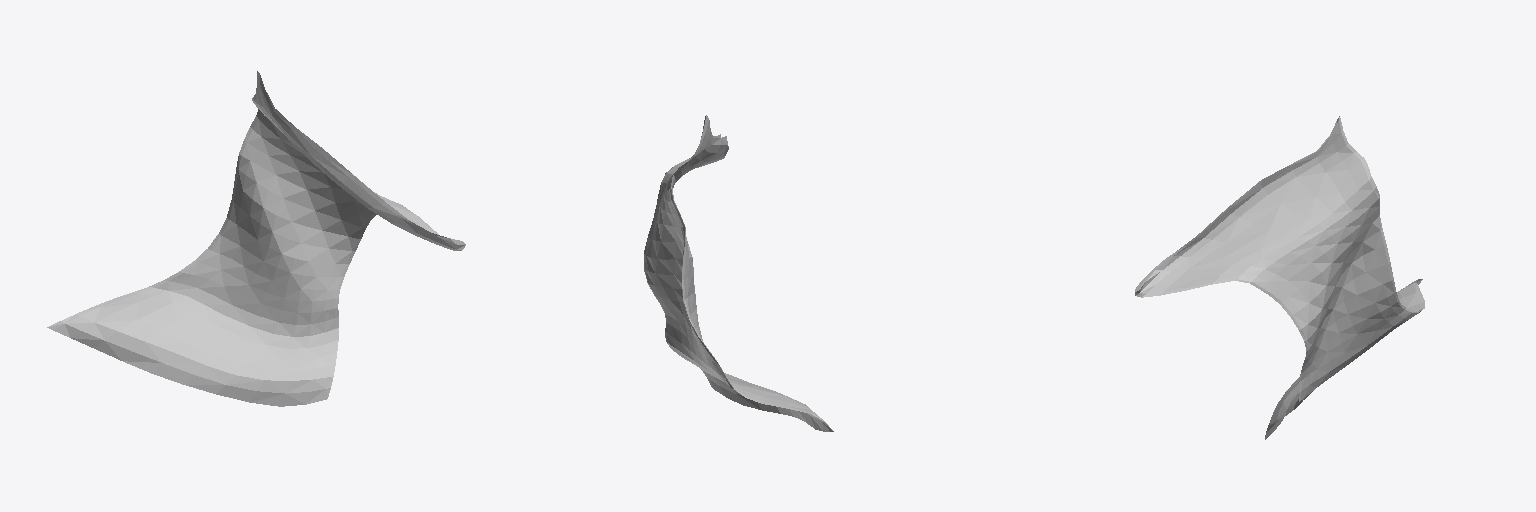
The model's file is platysma_right.obj.
The picture shows the model from 3 angles: view 1: azimuth 30°, elevation 25°; view 2: azimuth 150°, elevation 25°; view 3: azimuth 270°, elevation 25°; orthographic projection.
Parts seen in each view (by area): view 1: Platysma_Muscle_Right; view 2: Platysma_Muscle_Right; view 3: Platysma_Muscle_Right.
Part boxes in pixels (x1,y1,x2,y2): Platysma_Muscle_Right: (47, 71, 465, 406); Platysma_Muscle_Right: (644, 115, 833, 431); Platysma_Muscle_Right: (1135, 116, 1424, 439).
Bounding box in the file's own units: 1.46 × 1.58 × 1.33.